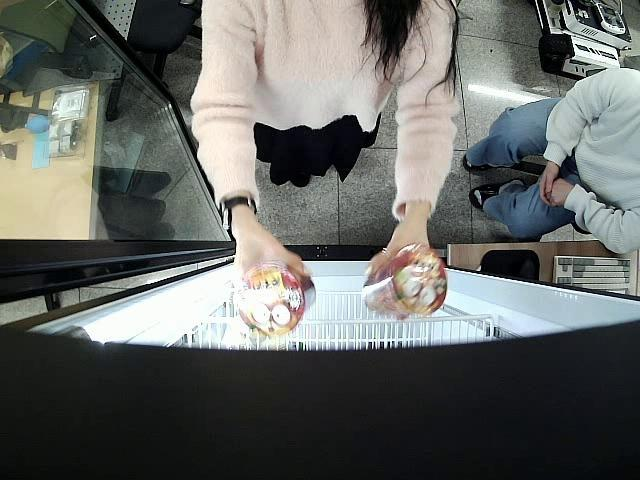06_nuguri_S: (364, 244, 448, 317), (234, 264, 316, 338)
